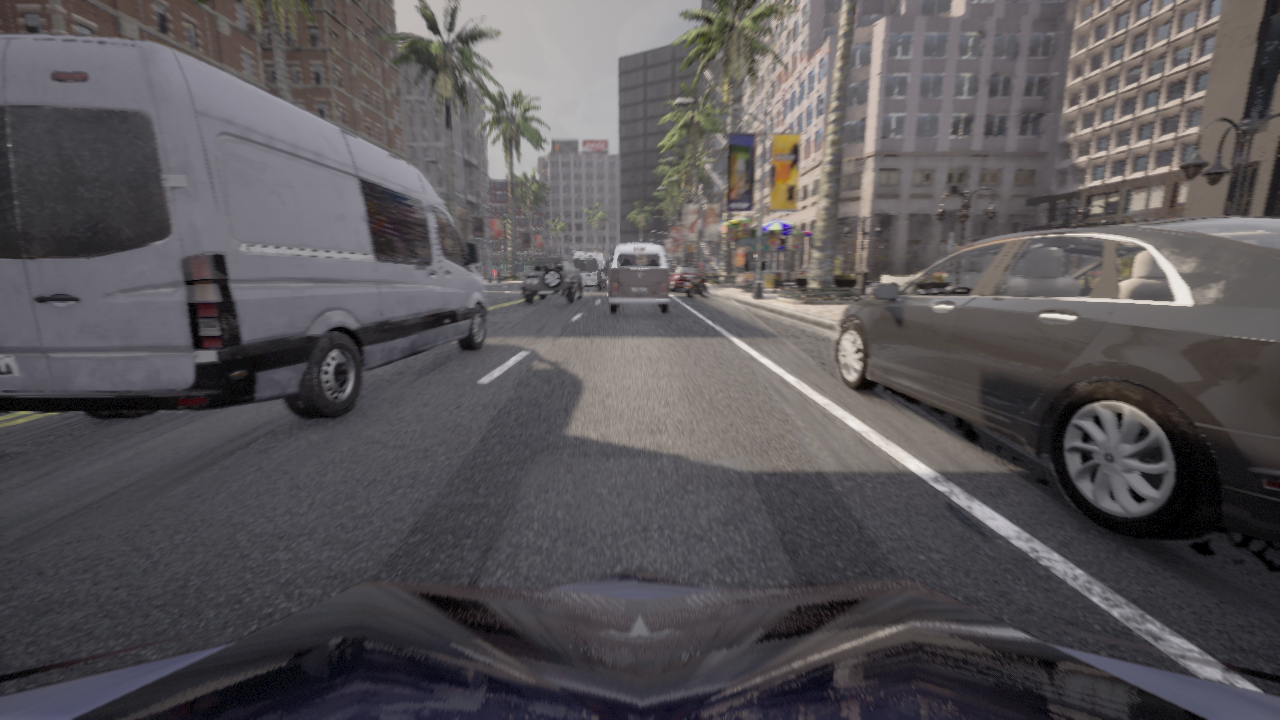cyclist: (0, 569, 1279, 719), (833, 216, 1279, 541), (609, 244, 669, 314), (522, 257, 583, 303), (572, 253, 607, 290), (669, 264, 705, 292), (685, 272, 706, 297), (669, 271, 674, 276)
